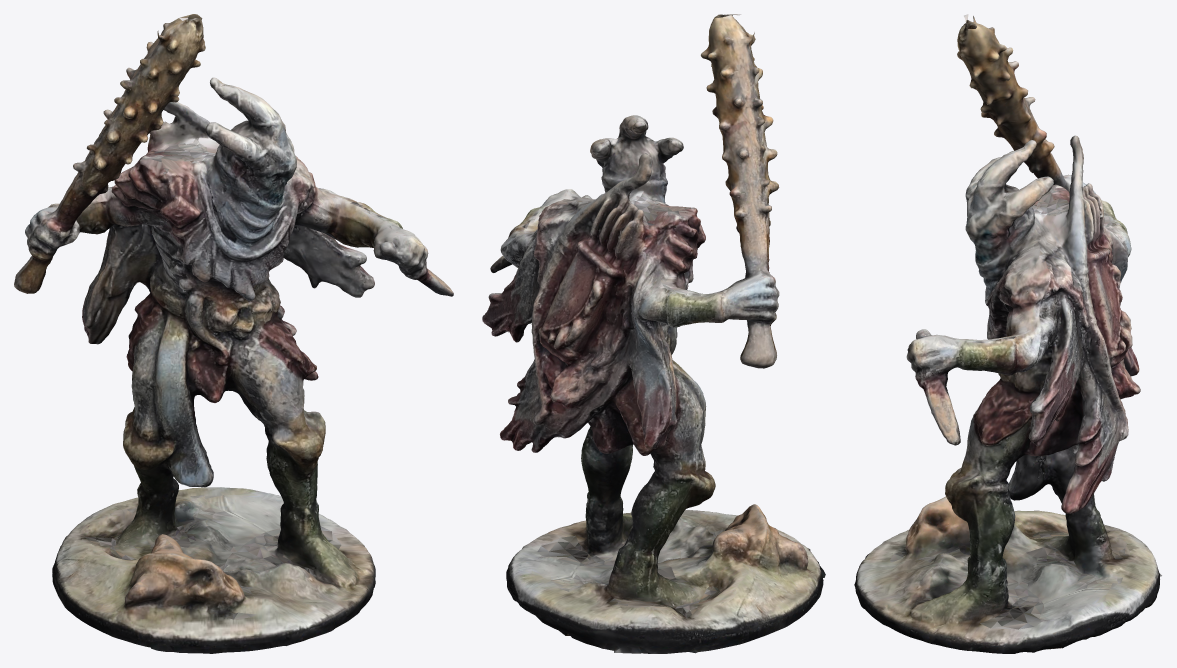
File: Drifter.glb
The picture shows the model from 3 angles, left to right: view 1: azimuth 30°, elevation 25°; view 2: azimuth 150°, elevation 25°; view 3: azimuth 270°, elevation 25°; orthographic projection. The views are drawn at different scales.
Visible parts, largest first — view 1: drifter; view 2: drifter; view 3: drifter.
Boxes of the visible parts, box(x1,y1,x2,y2) form: drifter: box(14, 14, 453, 653); drifter: box(482, 14, 825, 653); drifter: box(854, 14, 1161, 653).
Bounding box in the file's own units: 9.11 × 14.12 × 7.17.
1 material, 1 textured.
